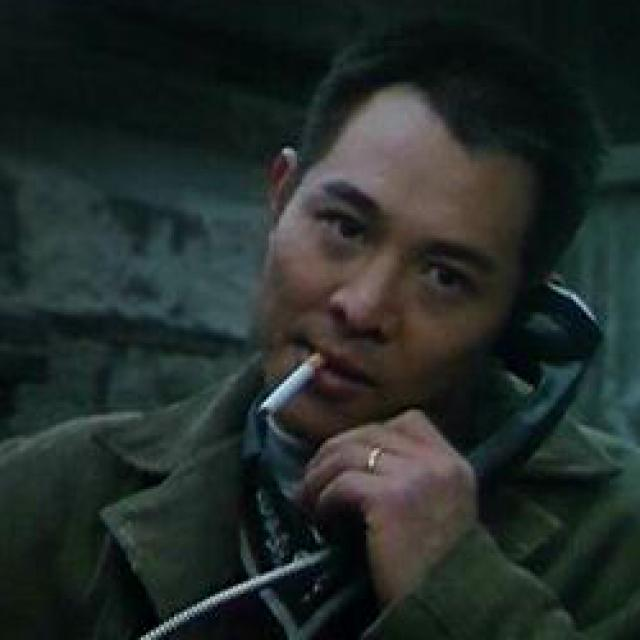Smooking: (238, 336, 333, 420)
